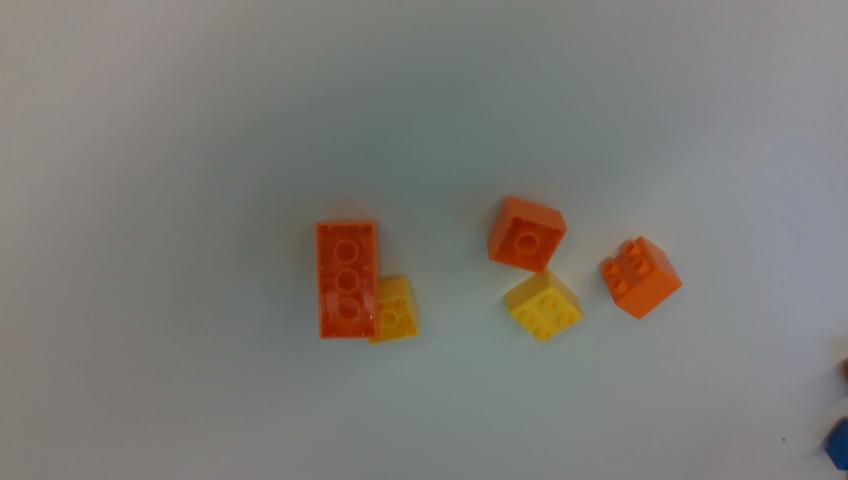2x2_orange: (601, 236, 681, 318), (487, 196, 567, 272)
2x2_yellow: (506, 269, 582, 341), (368, 277, 419, 341)
4x2_orange: (318, 223, 376, 337)
